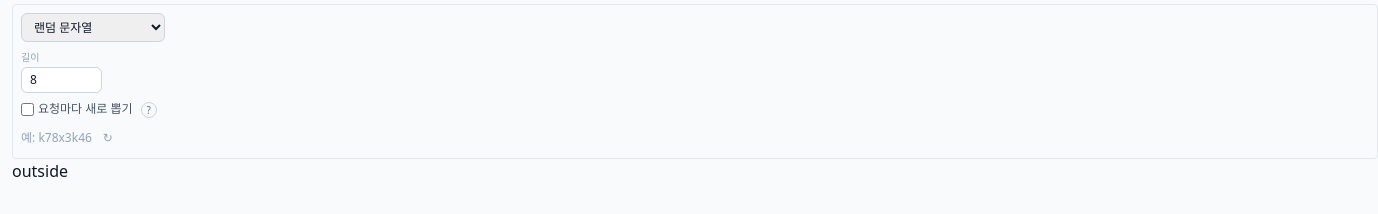
GenVarEditor — 랜덤 문자열 › US3: 범위 밖 길이 draft는 그 자리에서 안내 + aria-invalid + aria-describedby(US: per-field 무효 안내)
The width and height of the screenshot is (1378, 214).
Replace the text in the number field labelled "길이" with "0" at (62, 80), box x1=21 y1=67 x2=102 y2=93
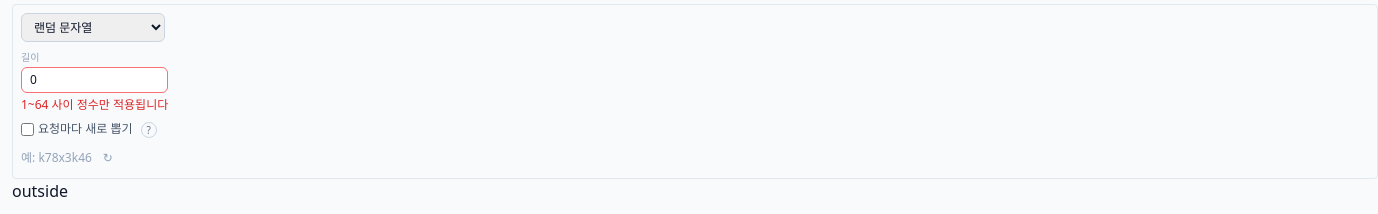
Replace the text in the number field labelled "길이 1~64 사이 정수만 적용됩니다" with "-1" at (95, 80), box x1=21 y1=67 x2=168 y2=93
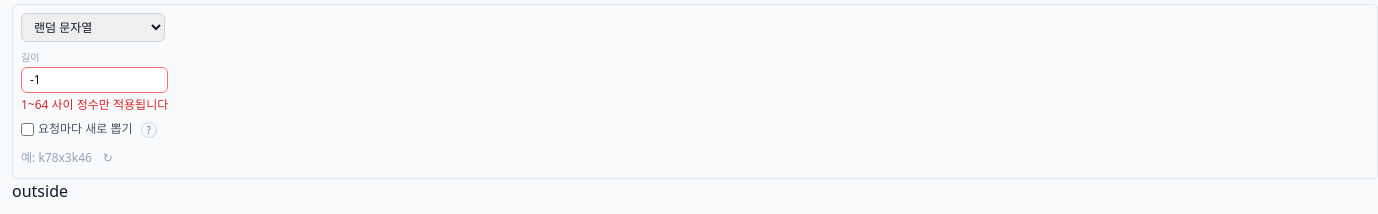
Replace the text in the number field labelled "길이 1~64 사이 정수만 적용됩니다" with "65" at (95, 80), box x1=21 y1=67 x2=168 y2=93
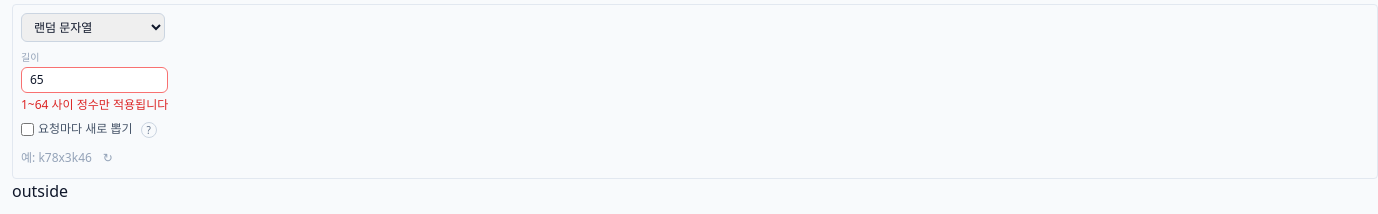
Replace the text in the number field labelled "길이 1~64 사이 정수만 적용됩니다" with "3.5" at (95, 80), box x1=21 y1=67 x2=168 y2=93
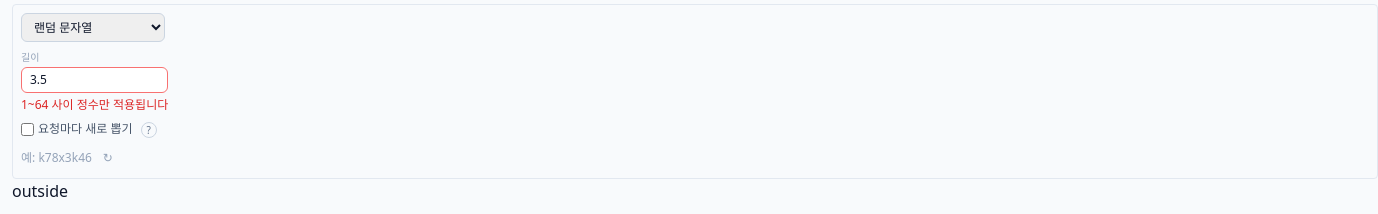
Replace the text in the number field labelled "길이 1~64 사이 정수만 적용됩니다" with "12" at (95, 80), box x1=21 y1=67 x2=168 y2=93
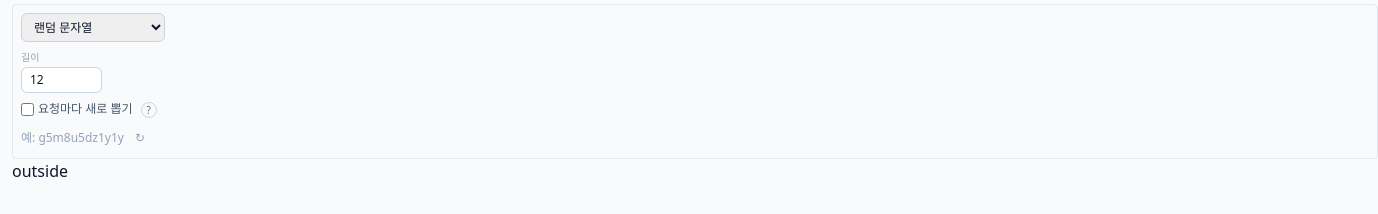
Now the text "1~64 사이 정수만 적용됩니다" is gone
